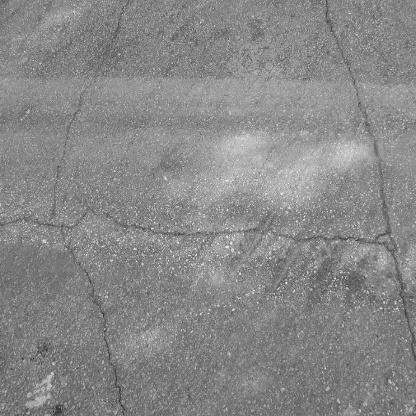Cracks: (319, 0, 403, 251), (44, 0, 137, 224), (0, 211, 407, 257), (50, 226, 133, 416), (371, 233, 416, 416)
